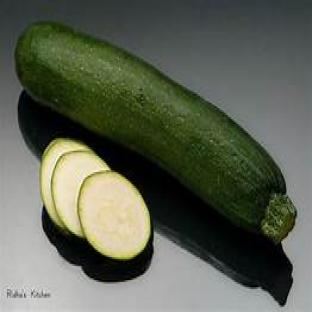Zucchini: (16, 24, 296, 242), (18, 91, 291, 304), (42, 208, 153, 281), (78, 171, 152, 260), (52, 151, 109, 237), (40, 139, 89, 230)
